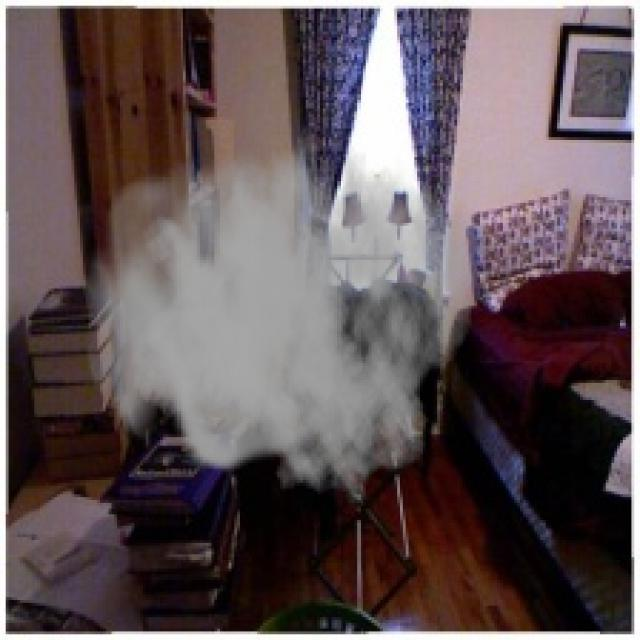Smoke: (82, 106, 474, 506)
